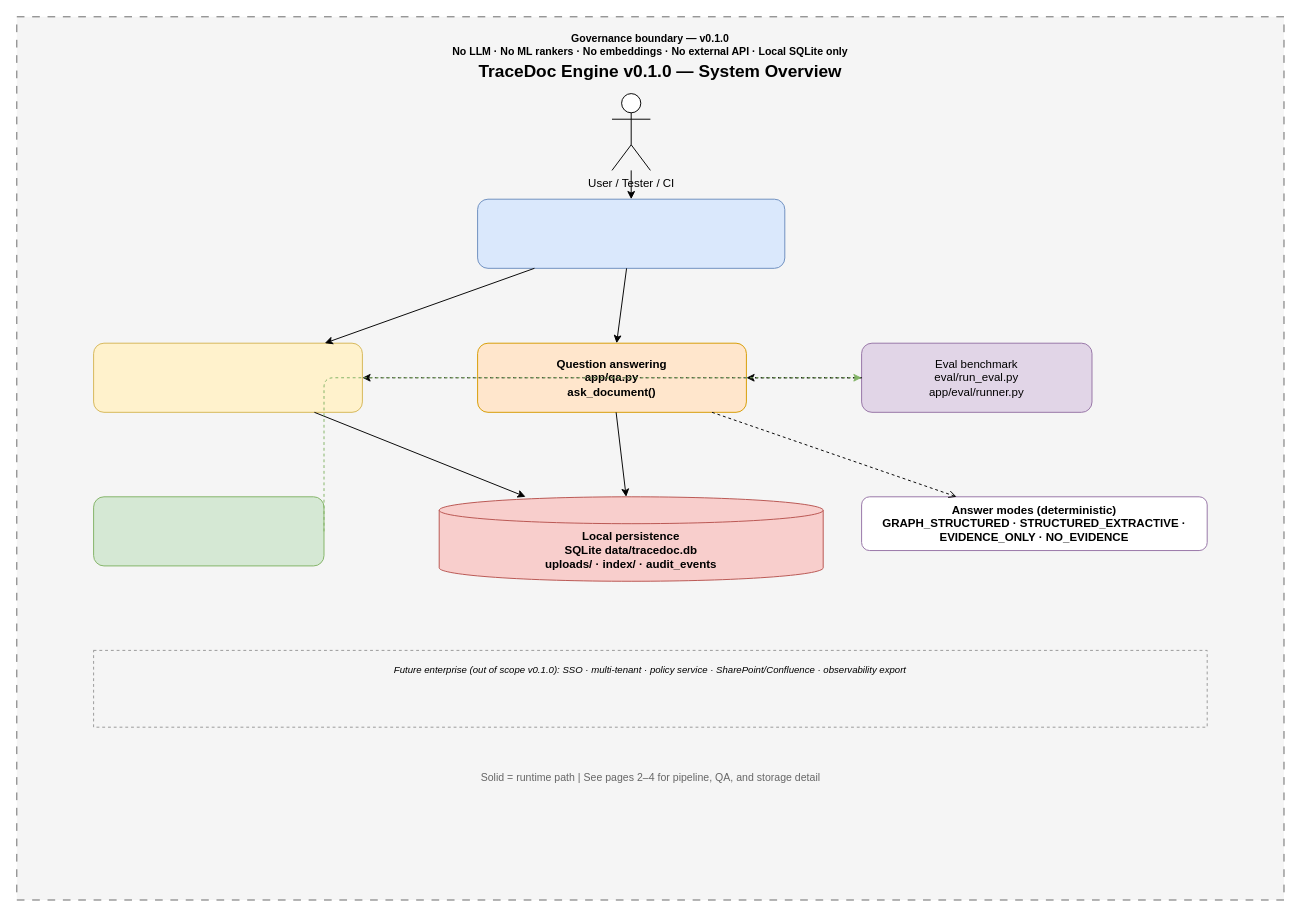
Image size: 1301x917. Some labels were removed from this diagram. Each missing label, with the centre of its shape:
Document pipeline app/pipeline.py process_document(): [227,377]
GitHub Actions CI pytest · smoke_test · eval Python 3.11 + 3.12: [208,531]
Streamlit UI app/main.py upload · process · ask · audit: [631,233]
